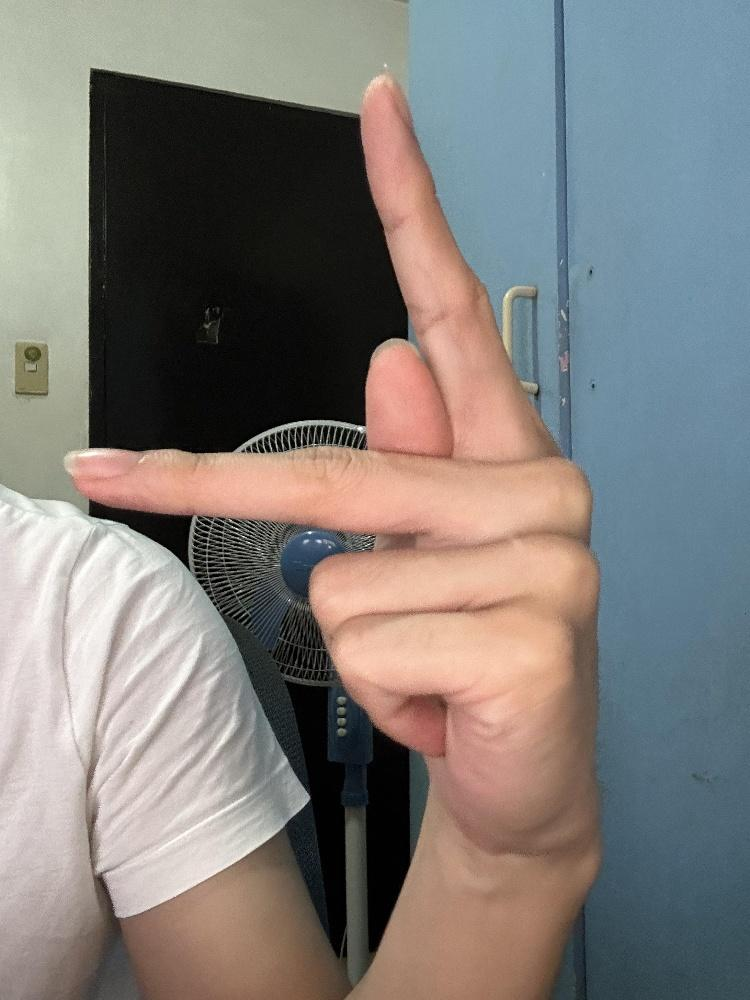k: (57, 65, 608, 875)
